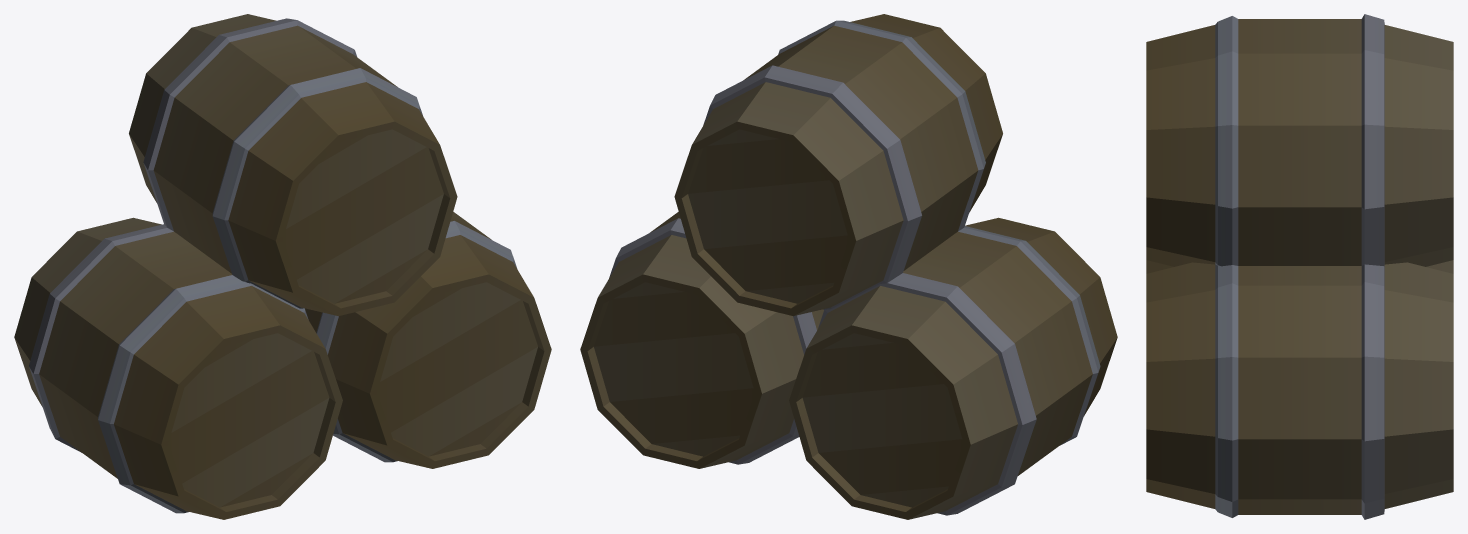
The model's file is Barrel_1B.fbx.
3 views of the same model, side by side, from view 1: azimuth 30°, elevation 25°; view 2: azimuth 150°, elevation 25°; view 3: azimuth 270°, elevation 25° (orthographic). The views are drawn at different scales.
Parts seen in each view (by area): view 1: polySurface9635; view 2: polySurface9635; view 3: polySurface9635.
Part boxes in pixels (x1=…): polySurface9635: x1=14, y1=14, x2=551, y2=519; polySurface9635: x1=580, y1=14, x2=1117, y2=519; polySurface9635: x1=1146, y1=14, x2=1453, y2=519.
Size of the model in its own units: 289 by 254 by 168.
